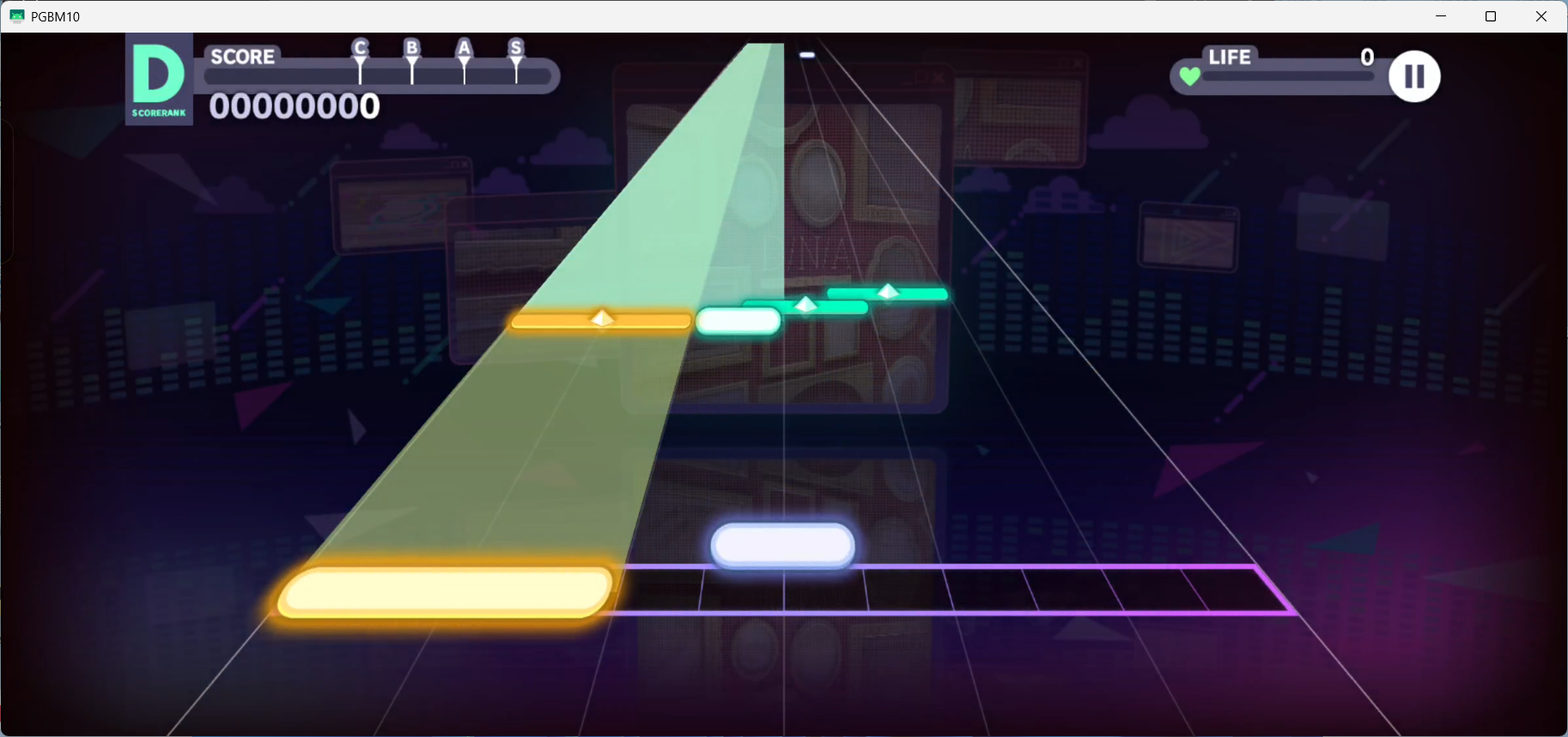hold: (304, 335, 693, 568), (527, 41, 785, 307)
sweep: (513, 311, 690, 332), (826, 281, 948, 302), (741, 299, 868, 315)
tap: (275, 568, 611, 622), (710, 523, 855, 570), (696, 307, 780, 335), (799, 51, 815, 58)
